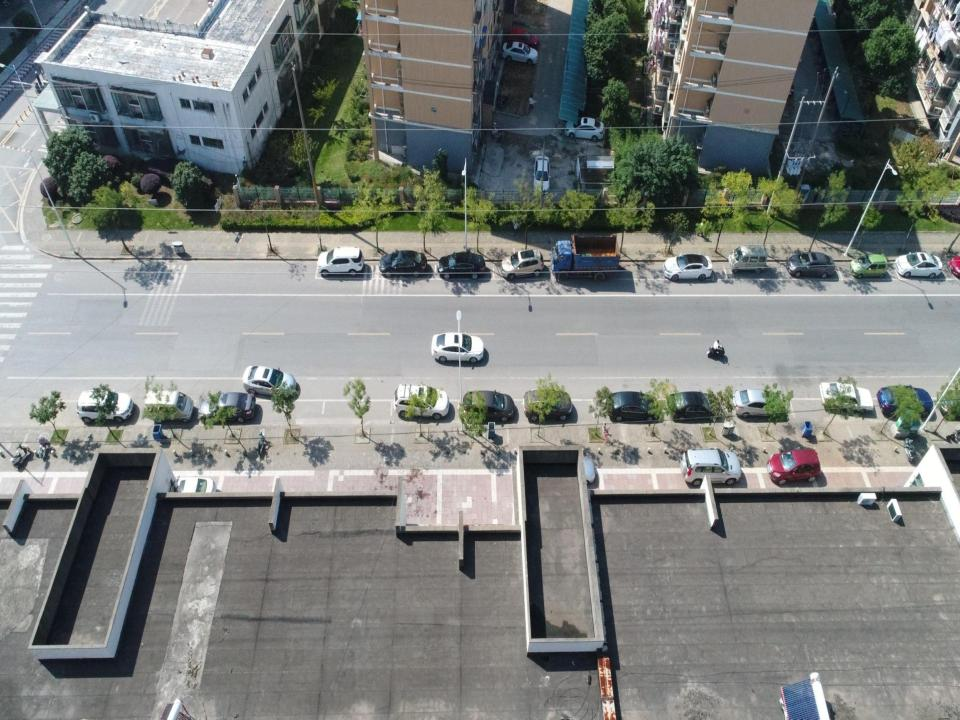car: (680, 448, 741, 486), (393, 383, 450, 421), (76, 388, 134, 425), (766, 448, 821, 486), (198, 391, 255, 426), (876, 385, 934, 418), (242, 365, 296, 400), (608, 389, 660, 425), (819, 382, 874, 416), (430, 331, 484, 364), (666, 390, 720, 423), (463, 390, 515, 422), (522, 388, 572, 421), (732, 388, 782, 418), (663, 252, 712, 282), (168, 474, 216, 504), (316, 246, 364, 276), (378, 249, 427, 278), (437, 251, 486, 280), (894, 251, 943, 280), (500, 249, 544, 281), (786, 251, 836, 279), (850, 252, 888, 280), (564, 116, 604, 142), (563, 453, 595, 485), (502, 40, 539, 66), (533, 155, 551, 196), (508, 27, 538, 47), (938, 391, 959, 419)
truck: (550, 234, 620, 282)
van: (145, 389, 194, 424), (728, 244, 767, 274)
